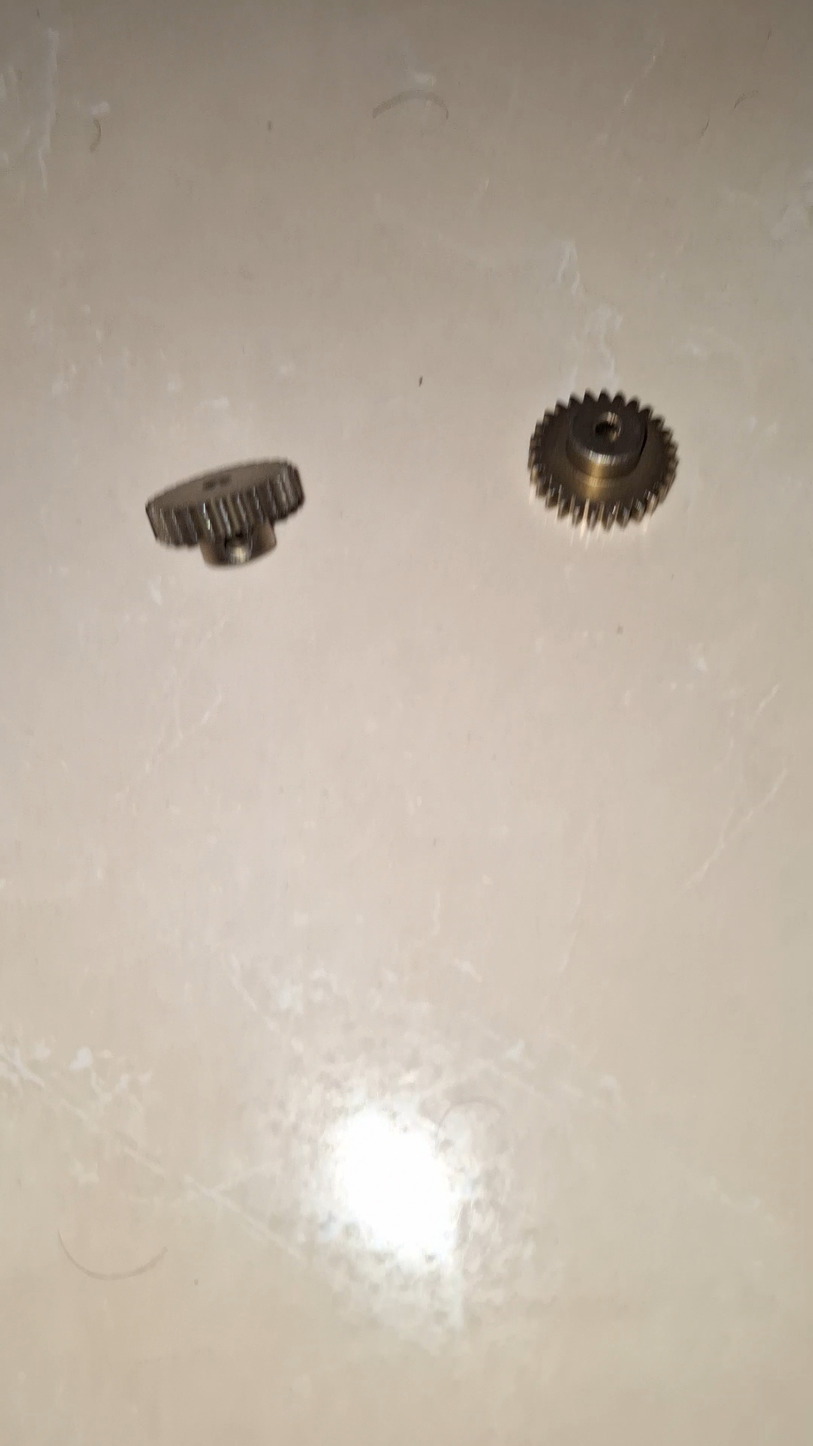spur gear: (529, 392, 677, 527), (147, 461, 303, 565)
